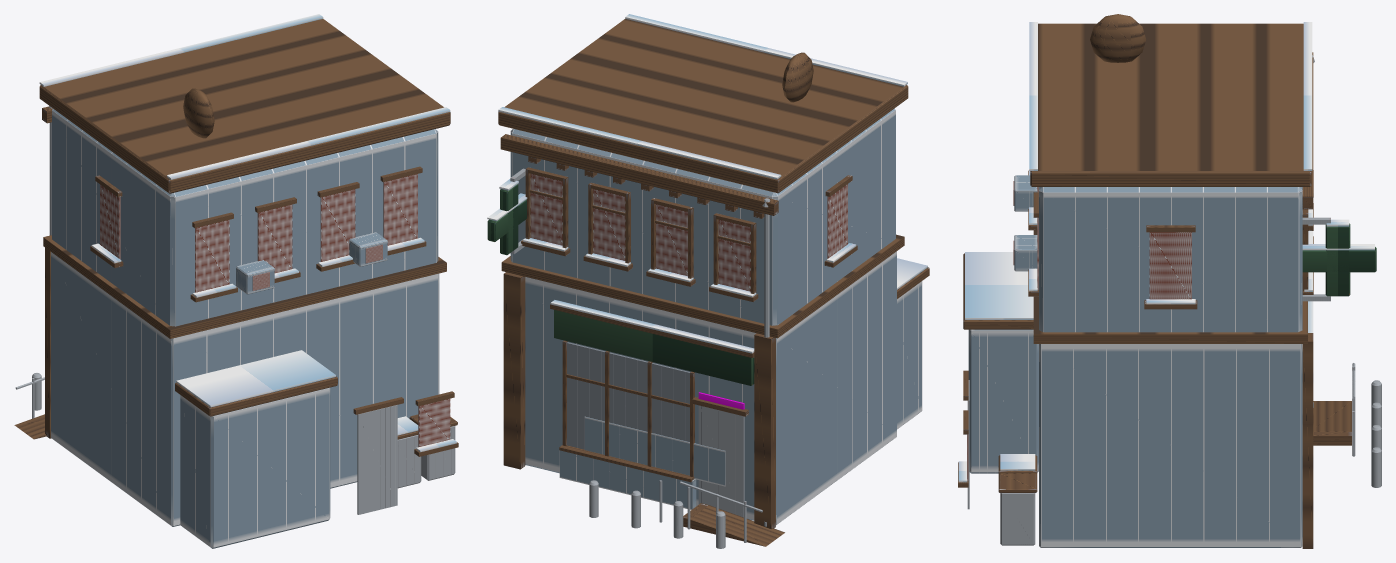
File: ck_shop_pharmacy_cross.fbx
3 renders of one model, left to right at view 1: azimuth 30°, elevation 25°; view 2: azimuth 150°, elevation 25°; view 3: azimuth 270°, elevation 25°, orthographic. The views are drawn at different scales.
Visible parts, largest first — view 1: ck_shop_pharmacy_cross; view 2: ck_shop_pharmacy_cross; view 3: ck_shop_pharmacy_cross.
Boxes of the visible parts, box(x1,y1,x2,y2) form: ck_shop_pharmacy_cross: box(14, 14, 458, 548); ck_shop_pharmacy_cross: box(487, 14, 929, 548); ck_shop_pharmacy_cross: box(958, 14, 1381, 548).
Bounding box in the file's own units: 1912 × 2500 × 2248.
